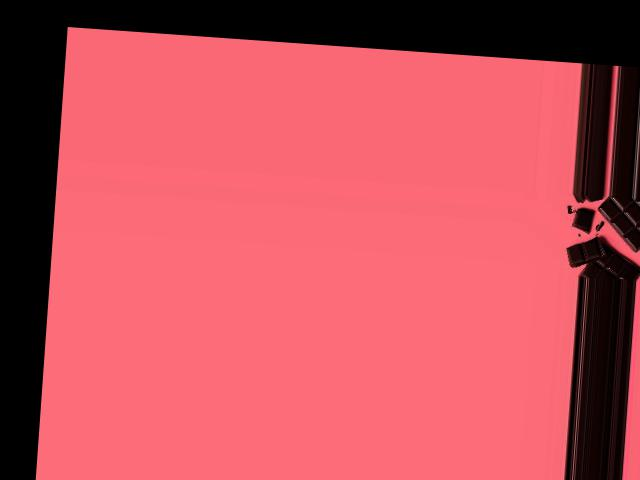chocolate: (570, 194, 640, 277)
